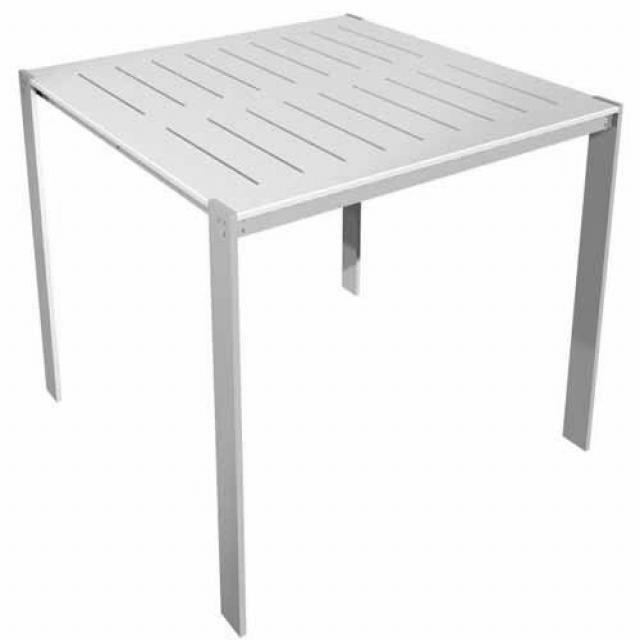table: (18, 14, 624, 633)
